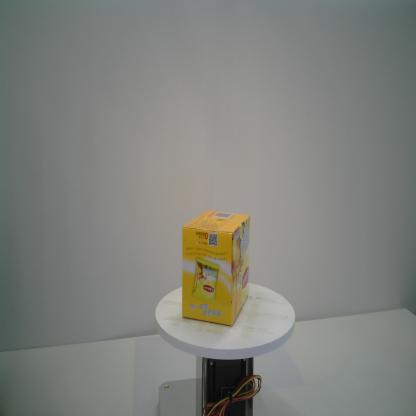Instant Drink: (182, 210, 250, 327)
